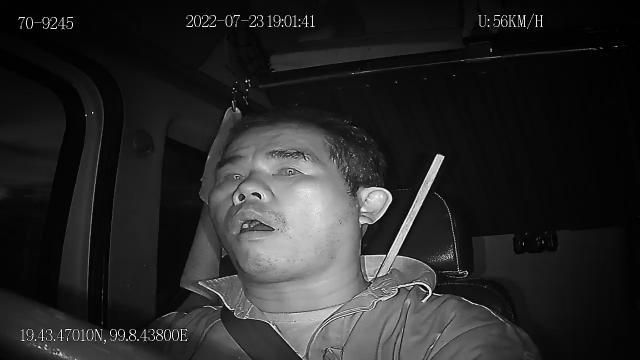SafeDriving: (266, 156, 310, 182), (214, 159, 250, 188)
Seatbelt: (219, 302, 305, 360)
